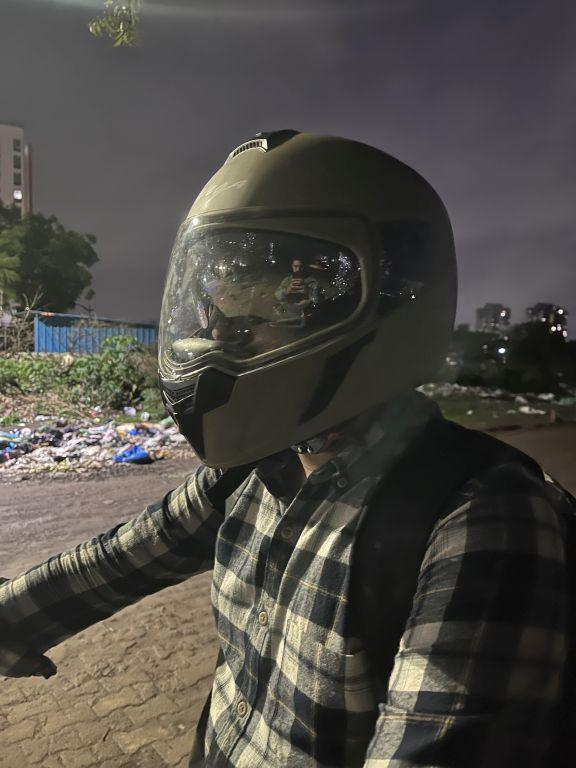helmet: (142, 107, 470, 474)
